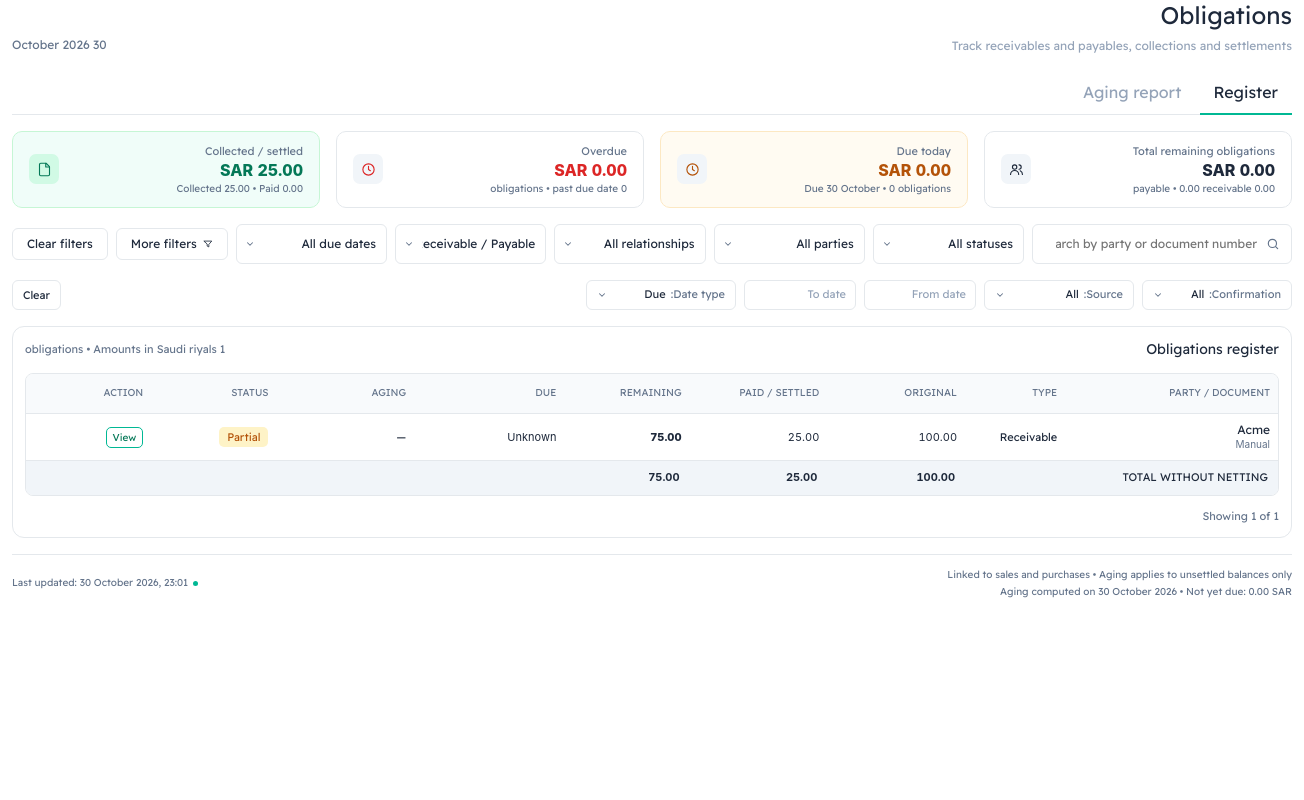
it: Obligations workspace › opens with no detail pane until a row is clicked
Click the cell "Acme Manual". click: x=1172, y=437
box: [1065, 414, 1278, 461]
(page scrolled)
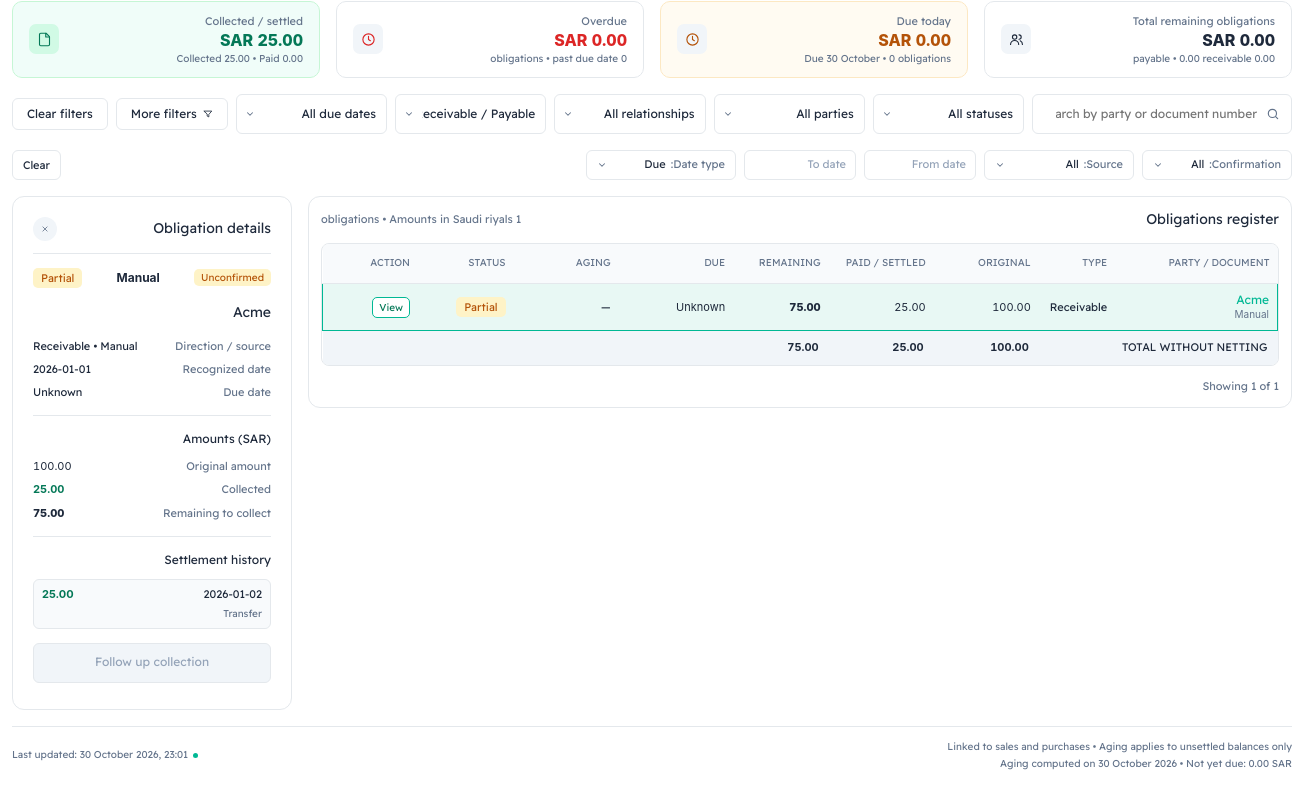
Expected: the element named "Obligation details" is shown, [12, 196, 292, 710]
